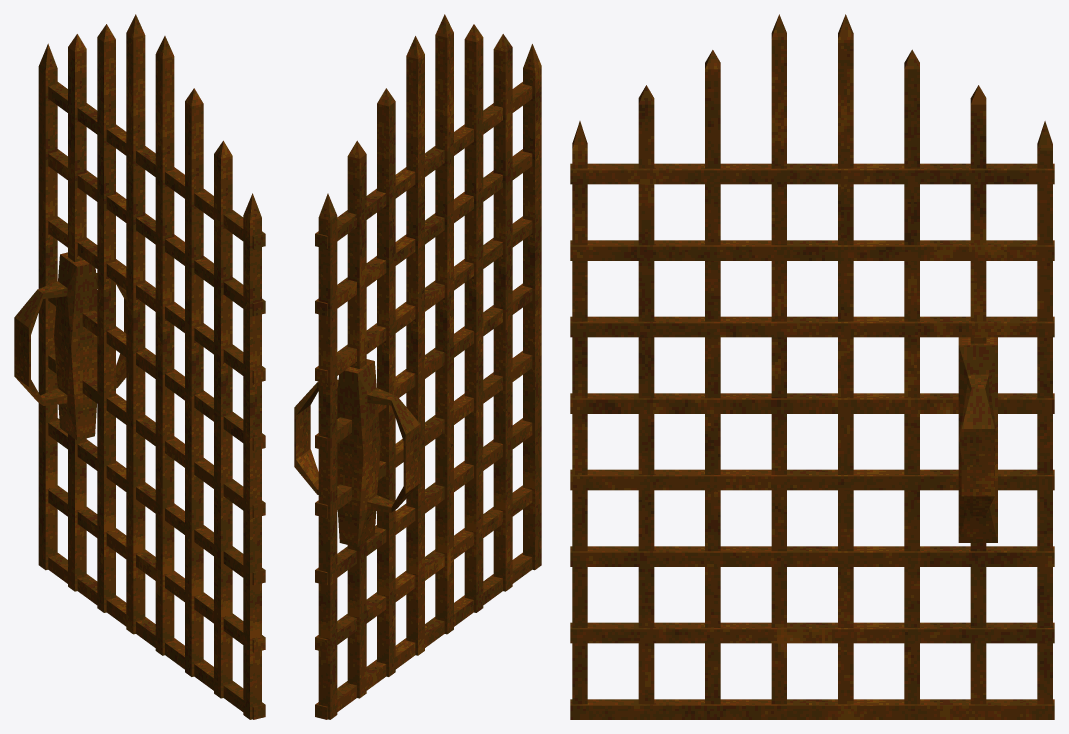
File: door_gate_02.gltf
3 renders of one model, left to right at view 1: azimuth 30°, elevation 25°; view 2: azimuth 150°, elevation 25°; view 3: azimuth 270°, elevation 25°, orthographic. The views are drawn at different scales.
Visible parts, largest first — view 1: door_gate_02; view 2: door_gate_02; view 3: door_gate_02.
Part boxes in pixels (left/top/right/bottom): door_gate_02: left=14, top=14, right=265, bottom=719; door_gate_02: left=294, top=14, right=541, bottom=719; door_gate_02: left=570, top=14, right=1054, bottom=719.
Bounding box in the file's own units: 0.3747 × 1.98 × 1.24.
Materials: 1 (1 with a texture image).
